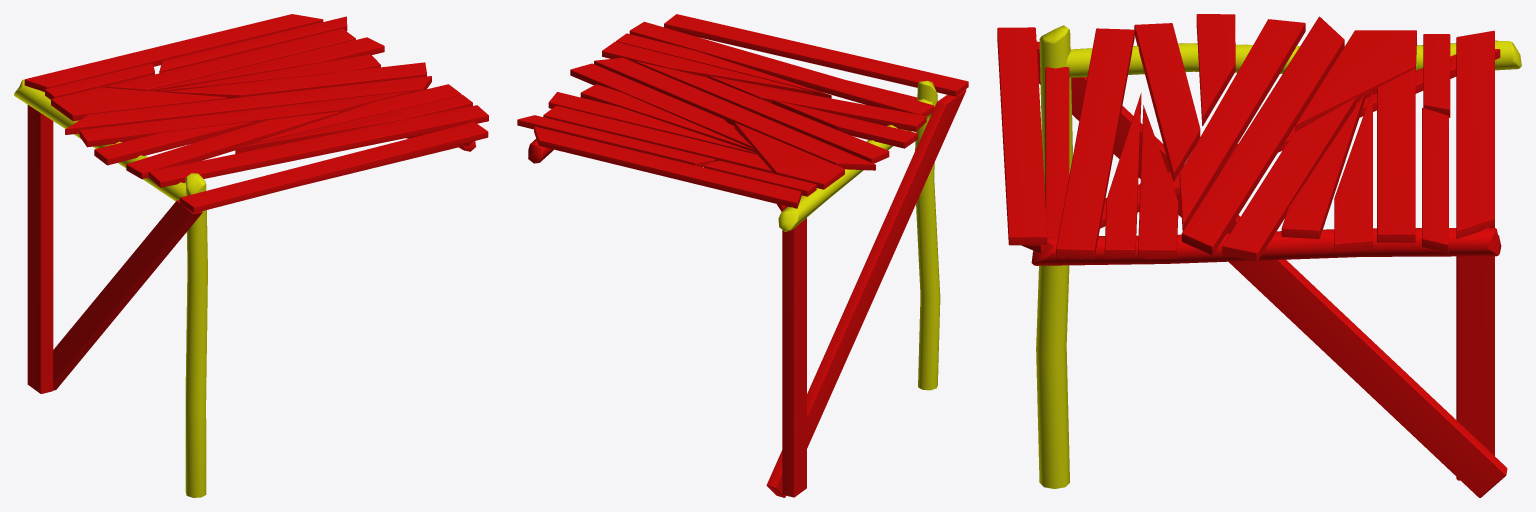
The model's file is prp_Platform.fbx.
3 renders of one model, left to right at view 1: azimuth 30°, elevation 25°; view 2: azimuth 150°, elevation 25°; view 3: azimuth 270°, elevation 25°, orthographic. The views are drawn at different scales.
Visible parts, largest first — view 1: prp_Platform; view 2: prp_Platform; view 3: prp_Platform.
Boxes of the visible parts, box(x1,y1,x2,y2) form: prp_Platform: box(14, 14, 488, 497); prp_Platform: box(517, 14, 968, 497); prp_Platform: box(997, 14, 1521, 497).
Size of the model in its own units: 2.97 by 2.77 by 2.71.
